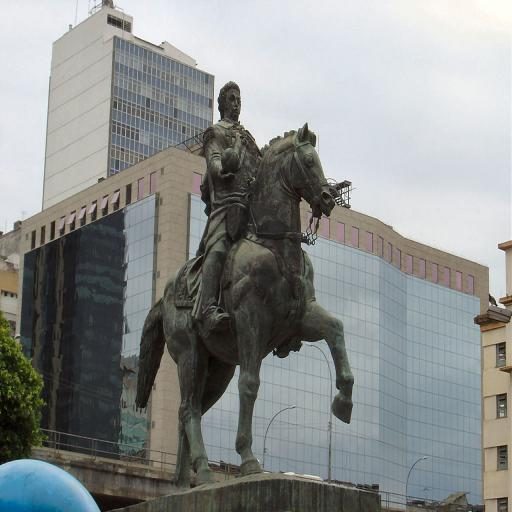Horse: (134, 117, 356, 487)
